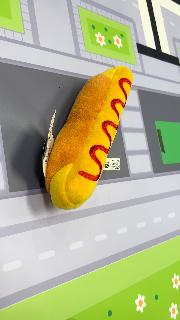hotdog: (44, 66, 134, 210)
